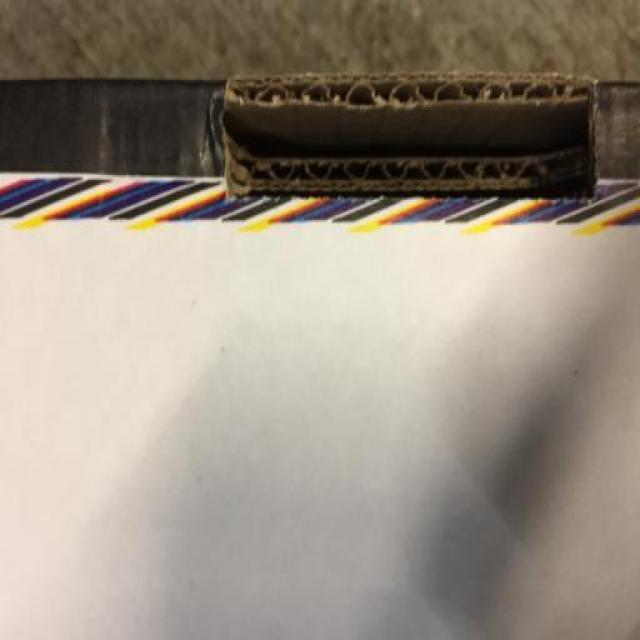cardboard: (3, 181, 640, 640), (236, 65, 602, 225)
